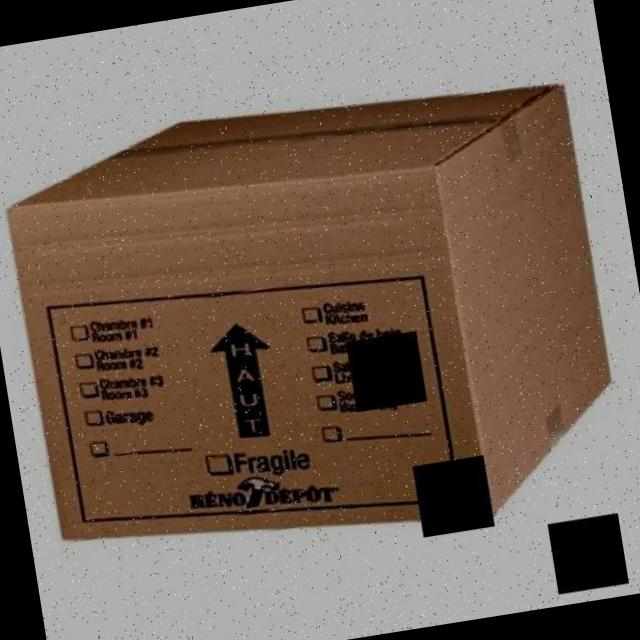box: (0, 57, 635, 588)
